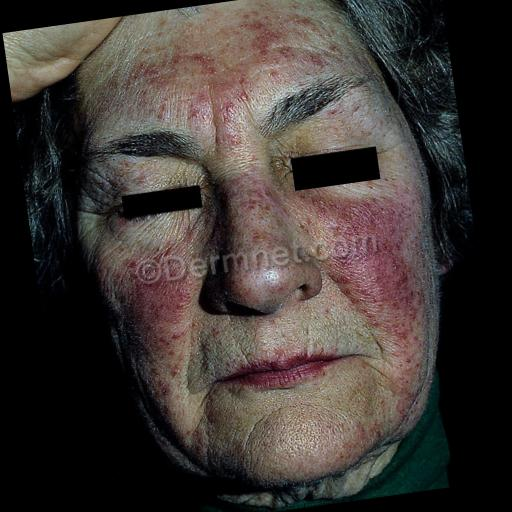Skin_Lesion: (316, 192, 418, 295), (235, 342, 340, 400), (116, 258, 198, 318), (242, 3, 300, 68), (128, 64, 174, 98), (240, 179, 274, 216), (395, 385, 422, 428), (263, 266, 294, 296), (188, 46, 214, 81)
